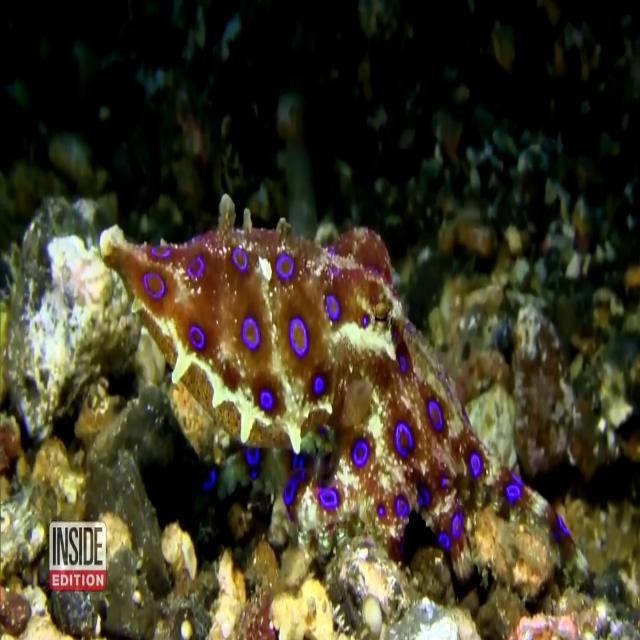octopus: (99, 210, 575, 604)
